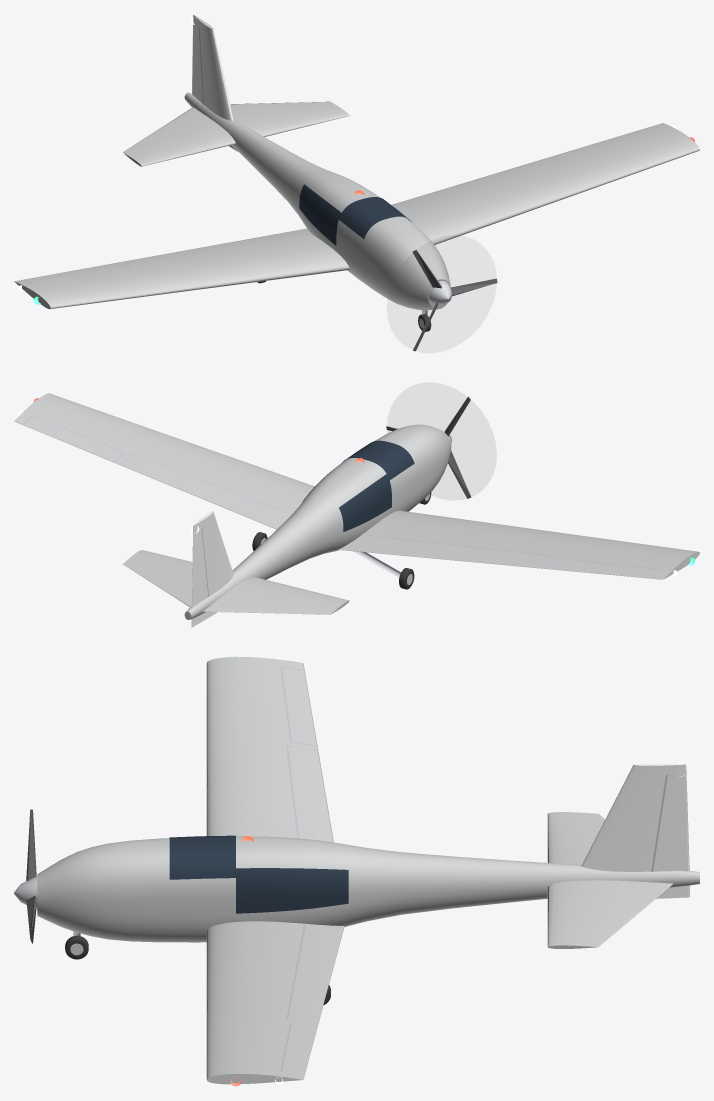
3 renders of one model, top to bottom at view 1: azimuth 30°, elevation 25°; view 2: azimuth 150°, elevation 25°; view 3: azimuth 270°, elevation 25°, orthographic. The views are drawn at different scales.
Visible parts, largest first — view 1: airframe, prop; view 2: airframe, gear, prop; view 3: airframe, prop.
Part boxes in pixels (box(x1,y1,x2,y2)): airframe: box(14, 14, 699, 310); prop: box(412, 250, 497, 351); airframe: box(14, 393, 699, 627); gear: box(252, 492, 431, 589); prop: box(386, 396, 471, 498); airframe: box(14, 656, 699, 1086); prop: box(26, 809, 36, 943).
Bounding box in the file's own units: 13.32 × 3 × 9.11.
